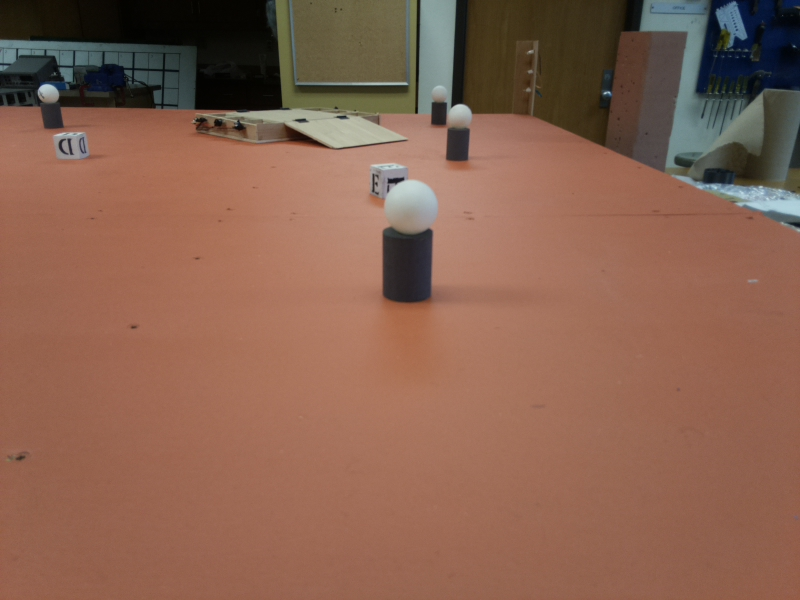blockD: (56, 131, 88, 161)
blockE: (363, 164, 385, 196)
obstacle: (384, 182, 439, 300), (515, 43, 541, 113), (446, 103, 473, 167), (41, 81, 61, 128), (429, 85, 447, 128)
side: (192, 112, 255, 140)
slope: (283, 120, 402, 147)
